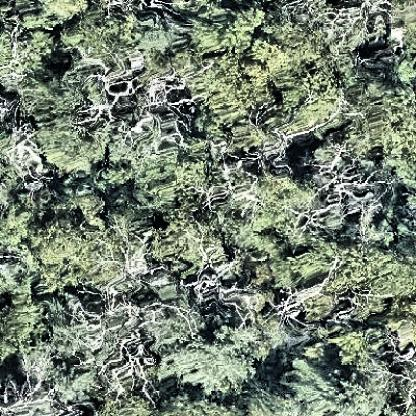tree-top: (202, 12, 344, 132), (345, 61, 416, 182), (295, 244, 414, 315), (252, 358, 394, 416), (159, 332, 258, 394), (248, 174, 314, 246), (34, 114, 105, 175), (30, 206, 91, 269), (158, 217, 225, 268), (1, 297, 50, 364), (23, 71, 80, 122), (1, 200, 41, 253)
